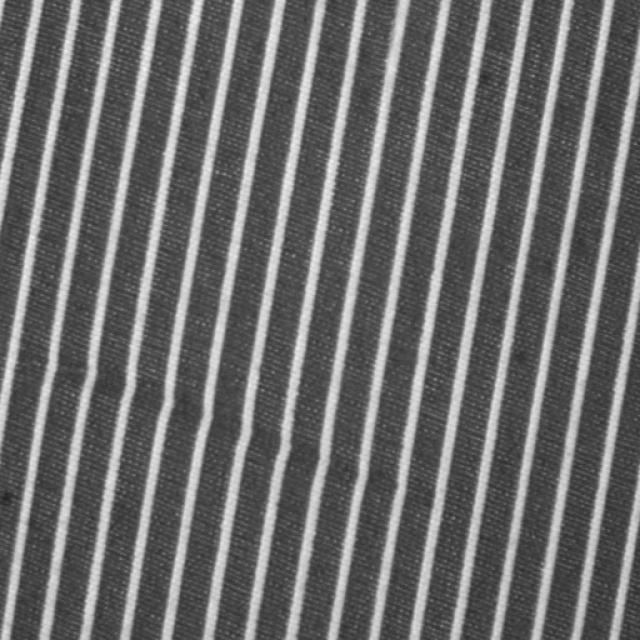Thread-Defect: (9, 341, 435, 513)
